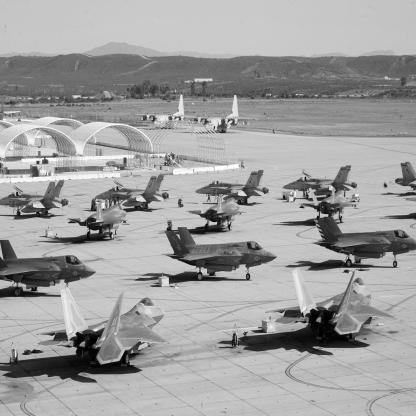C130: (184, 95, 260, 134), (134, 95, 200, 130), (2, 98, 27, 122)
F18: (96, 175, 178, 212), (196, 170, 276, 206), (1, 181, 75, 218), (284, 166, 364, 200), (391, 162, 416, 192)
F22: (33, 288, 173, 366), (266, 268, 400, 340)
F35: (161, 228, 279, 282), (1, 241, 98, 299), (311, 218, 416, 269), (68, 204, 131, 241), (187, 196, 248, 232), (299, 189, 360, 224)
